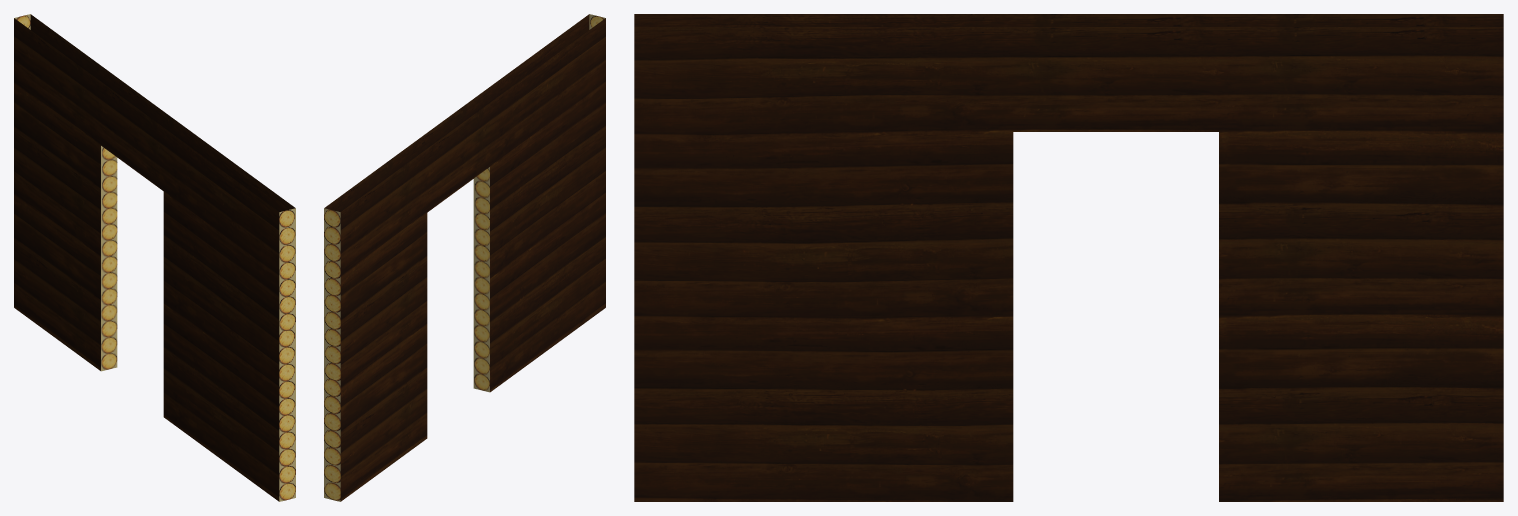
File: Inner wall 4.fbx
The picture shows the model from 3 angles, left to right: view 1: azimuth 30°, elevation 25°; view 2: azimuth 150°, elevation 25°; view 3: azimuth 270°, elevation 25°; orthographic projection. The views are drawn at different scales.
Parts seen in each view (by area): view 1: Inner_wall_4; view 2: Inner_wall_4; view 3: Inner_wall_4.
Part boxes in pixels (bbox=[...]): Inner_wall_4: bbox=[14, 14, 295, 501]; Inner_wall_4: bbox=[324, 14, 605, 501]; Inner_wall_4: bbox=[634, 14, 1503, 501].
Bounding box in the file's own units: 0.1702 × 2.87 × 4.76.
